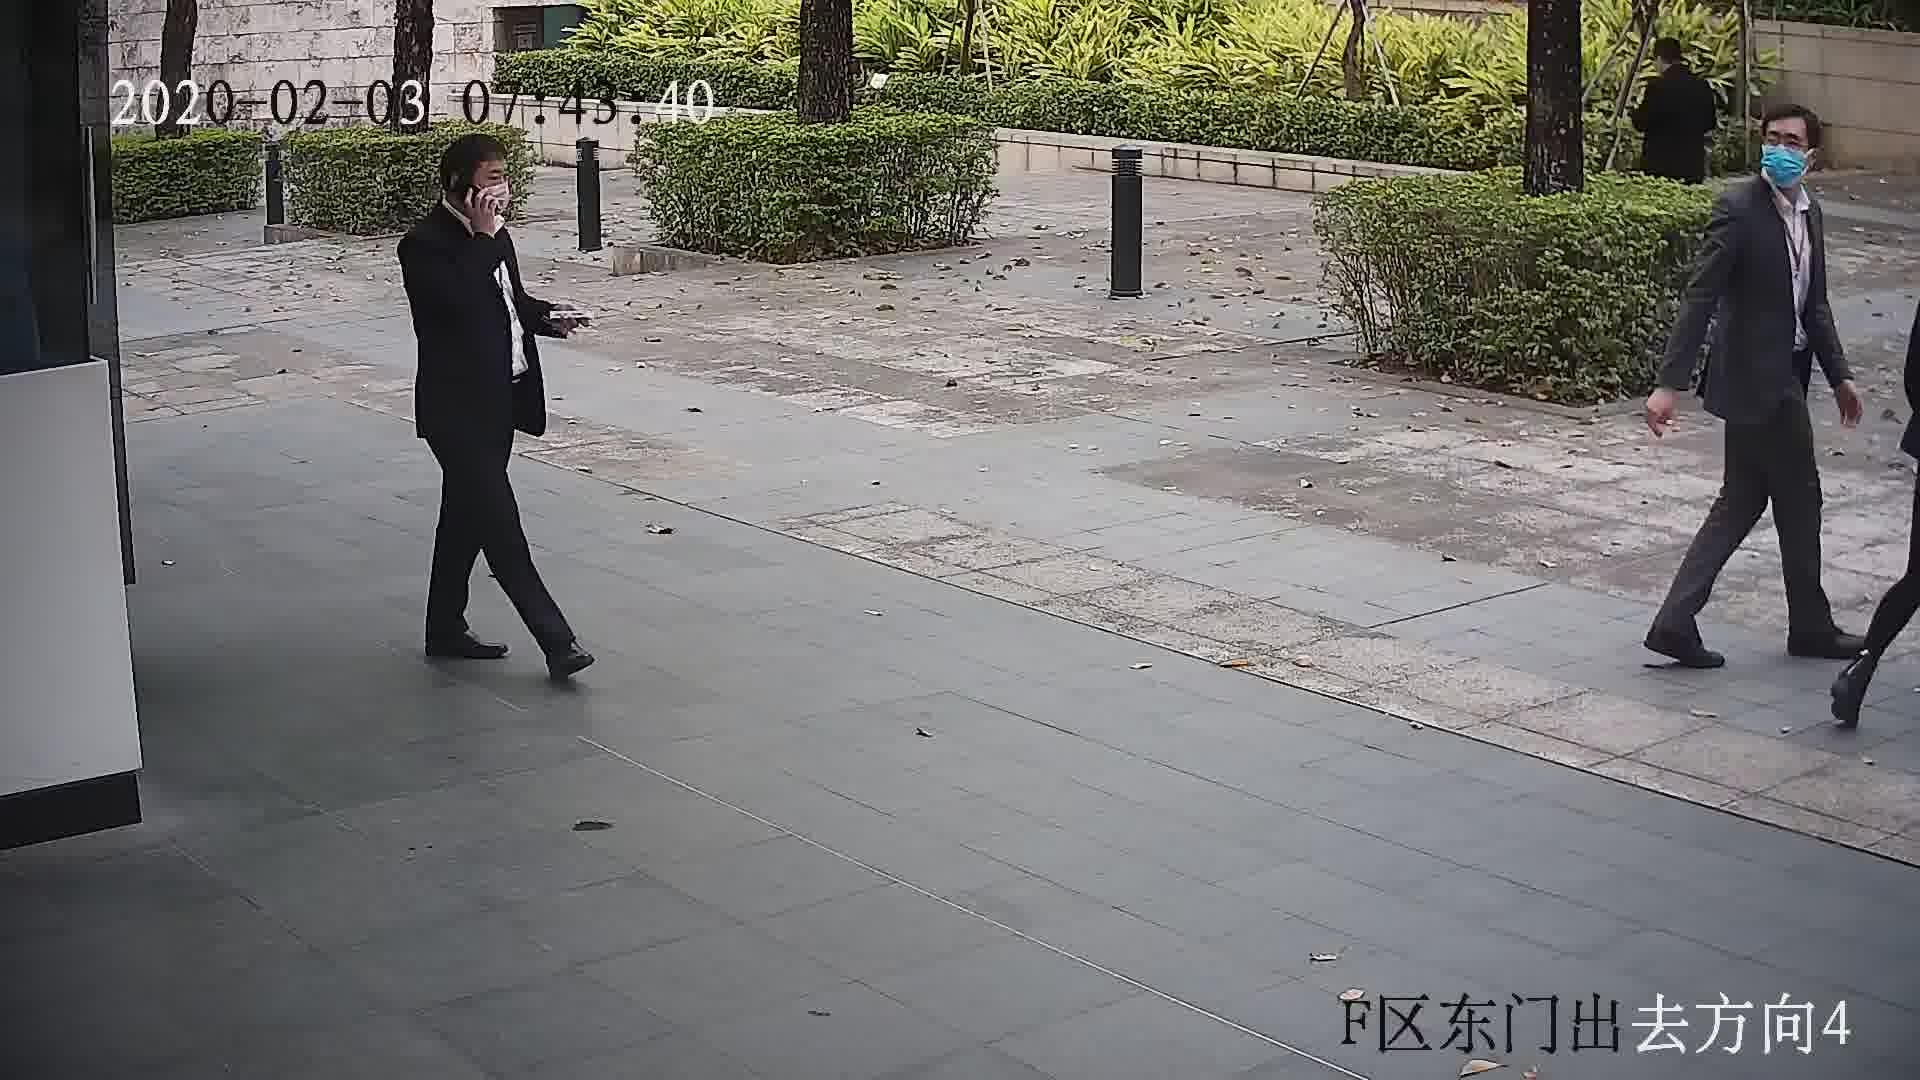face: (1765, 117, 1813, 195), (459, 157, 509, 217)
mask: (1758, 141, 1811, 186), (473, 181, 513, 220)
person: (1713, 99, 1831, 249), (396, 133, 517, 267), (1650, 31, 1707, 99)
